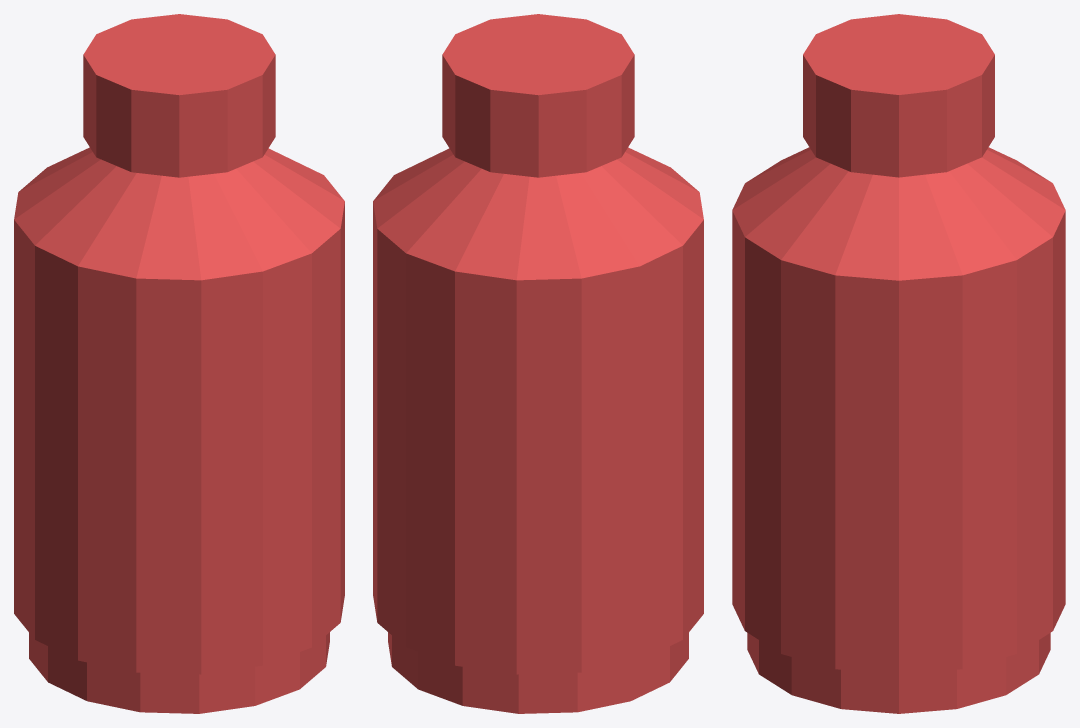
File: Prop_GasCylinder.glb
3 views of the same model, side by side, from view 1: azimuth 30°, elevation 25°; view 2: azimuth 150°, elevation 25°; view 3: azimuth 270°, elevation 25° (orthographic).
Parts seen in each view (by area): view 1: Tank, Shoulder, Guard, BaseRing; view 2: Tank, Shoulder, Guard, BaseRing; view 3: Tank, Shoulder, Guard, BaseRing.
Boxes of the visible parts, x1,y1,x2,y2 form: Tank: (14,202,344,674); Shoulder: (14,147,344,280); Guard: (83,14,275,177); BaseRing: (29,632,329,713); Tank: (373,202,703,674); Shoulder: (373,147,703,280); Guard: (442,14,634,177); BaseRing: (388,632,688,713); Tank: (732,211,1065,674); Shoulder: (732,147,1065,280); Guard: (803,14,994,177); BaseRing: (747,633,1050,713).
Bounding box in the file's own units: 0.33 × 0.65 × 0.33.
